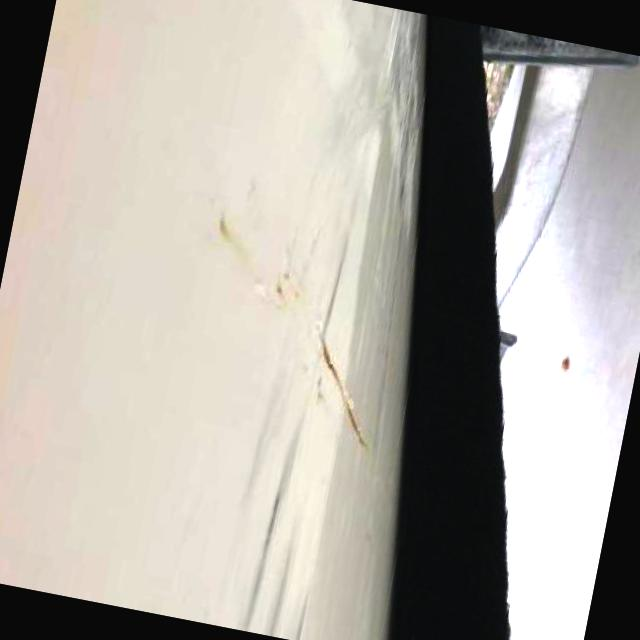crack: (306, 300, 377, 465)
